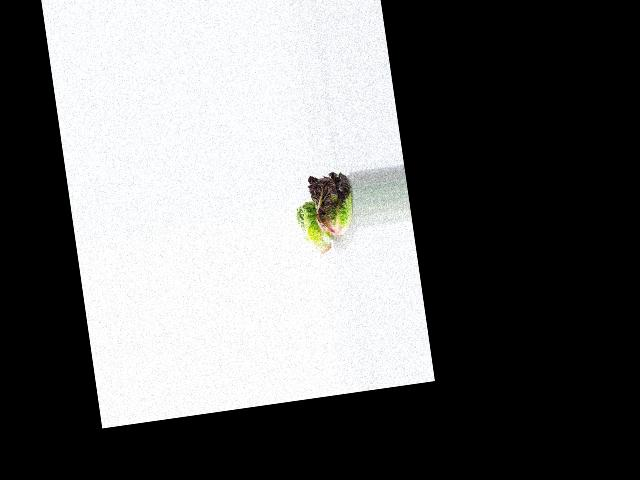lettuce: (294, 198, 334, 258)
